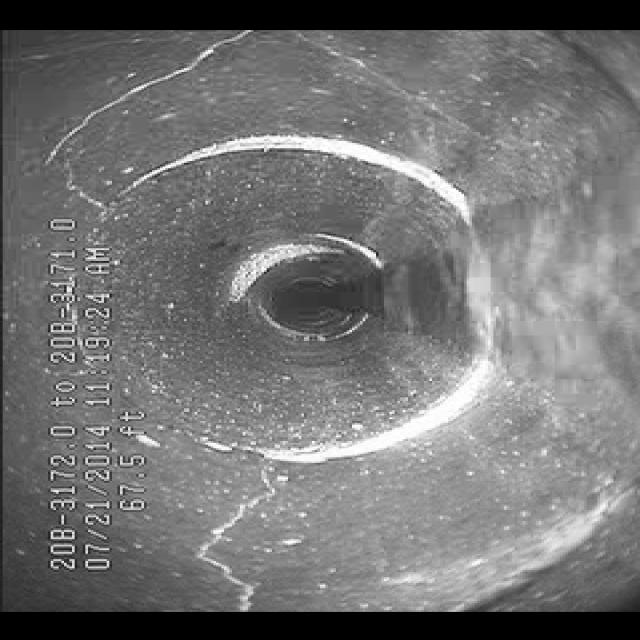Crack: (16, 34, 236, 170), (164, 462, 302, 610)
